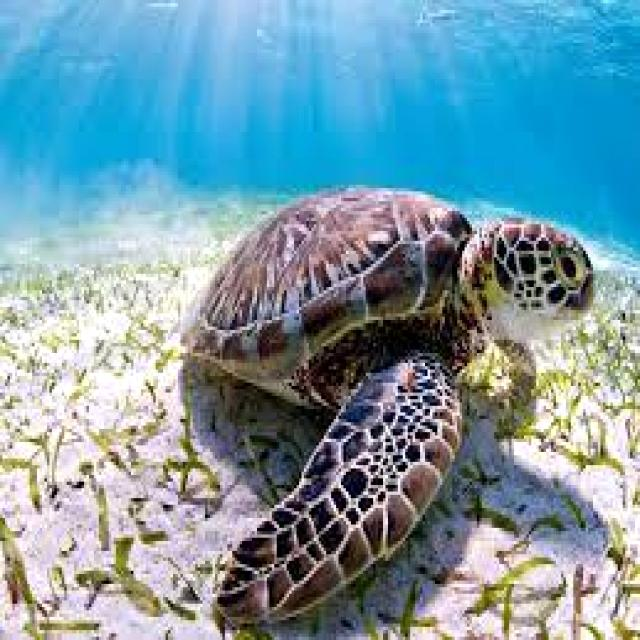Sea turtle: (91, 162, 628, 622)
